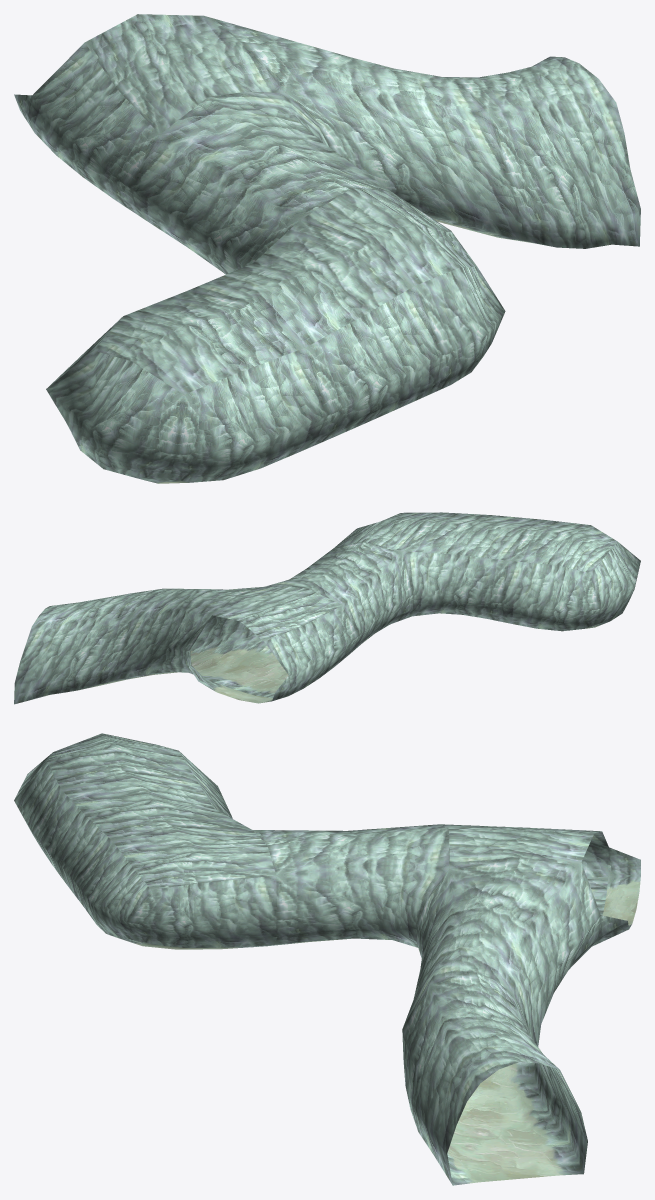
File: TROLLHOLE02_PS-MAINCAVE07.fbx
The picture shows the model from 3 angles, top to bottom: view 1: azimuth 30°, elevation 25°; view 2: azimuth 150°, elevation 25°; view 3: azimuth 270°, elevation 25°; orthographic projection. The views are drawn at different scales.
Parts seen in each view (by area): view 1: TROLLHOLE02_PS-MAINCAVE07; view 2: TROLLHOLE02_PS-MAINCAVE07; view 3: TROLLHOLE02_PS-MAINCAVE07.
Part boxes in pixels (bbox=[...]): TROLLHOLE02_PS-MAINCAVE07: bbox=[14, 14, 640, 483]; TROLLHOLE02_PS-MAINCAVE07: bbox=[14, 512, 640, 704]; TROLLHOLE02_PS-MAINCAVE07: bbox=[14, 733, 640, 1185].
Bounding box in the file's own units: 352789 × 114213 × 323529.
4 materials, 4 textured.
